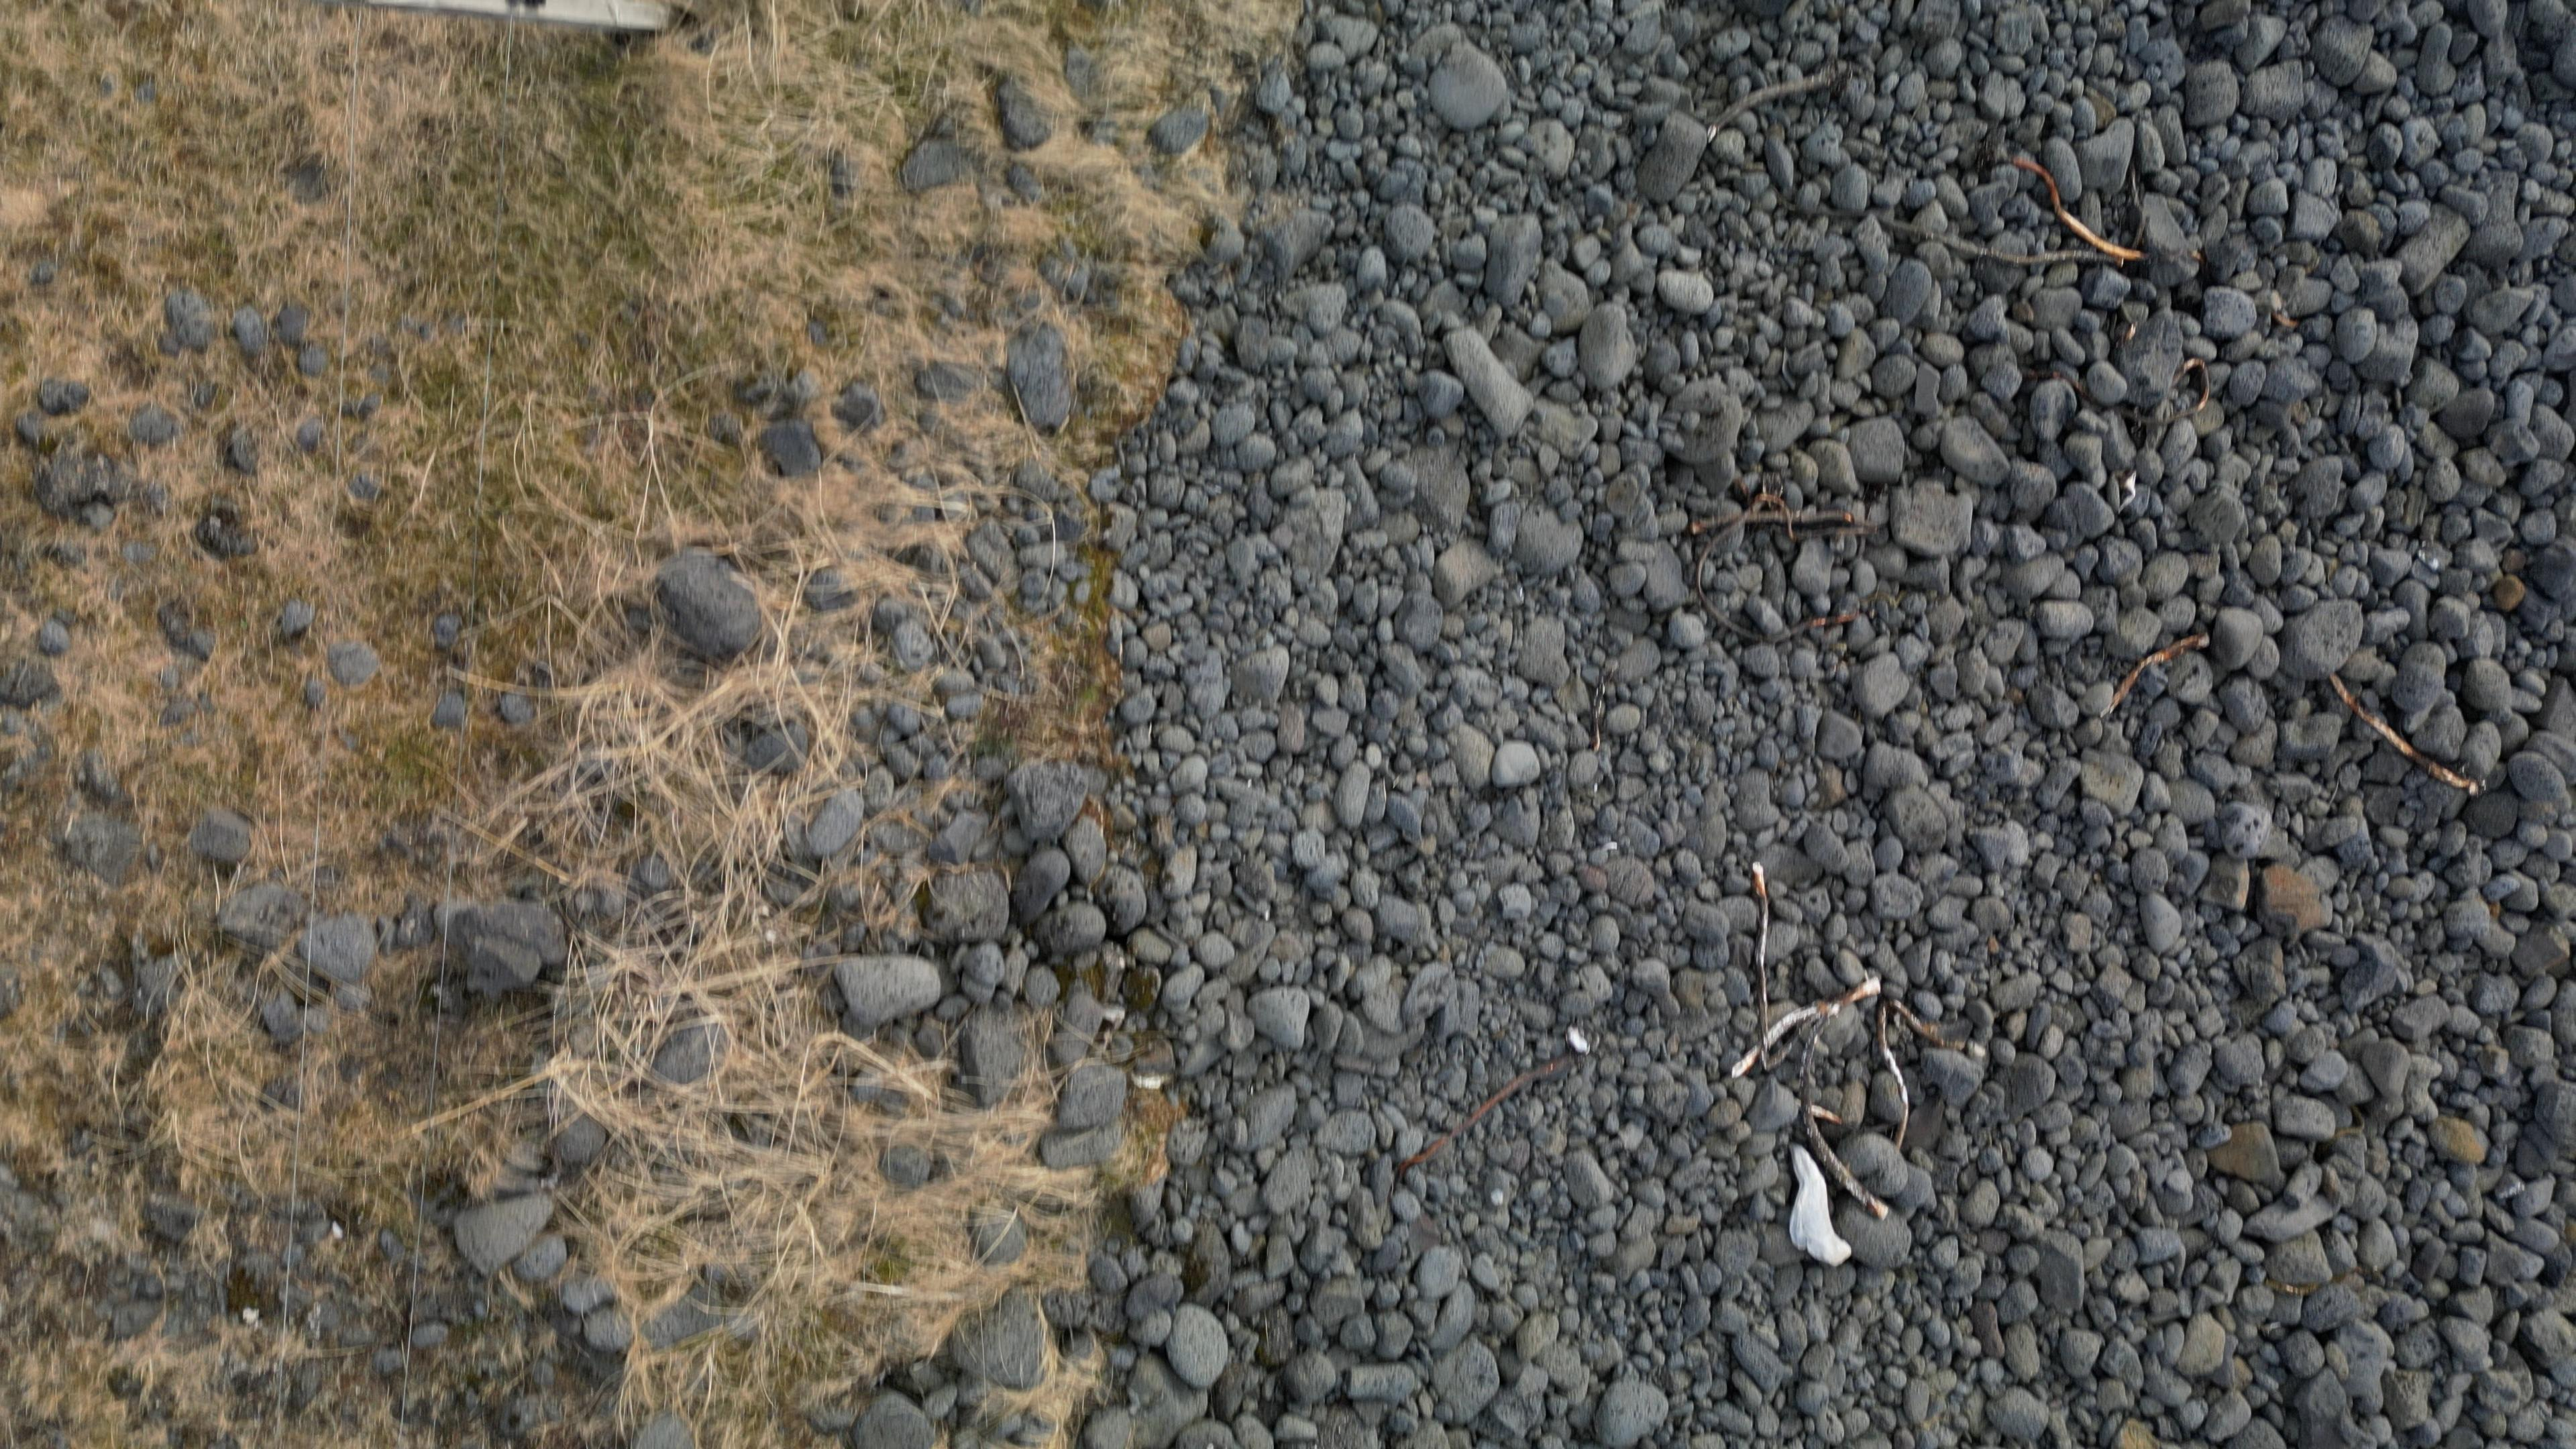trash: (1790, 1146, 1851, 1269)
